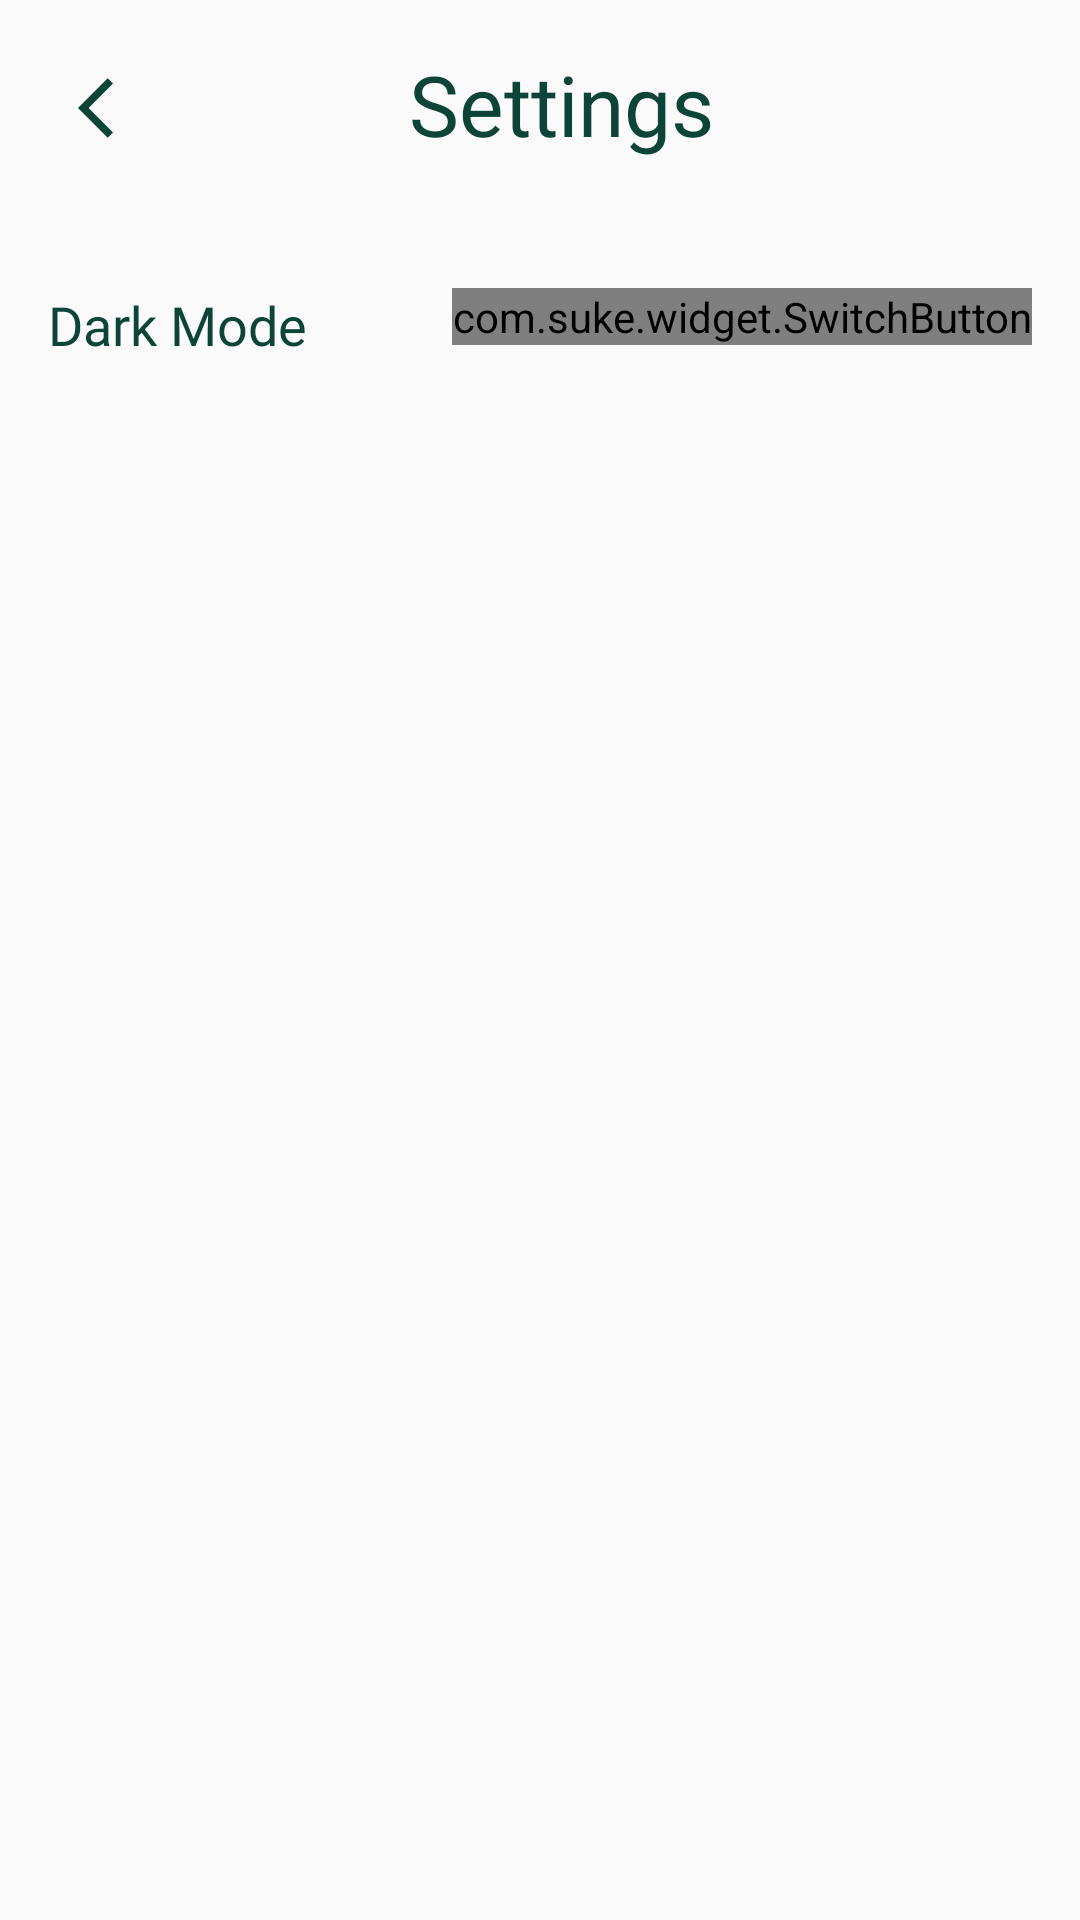

Point at icon controls on the screen. Image size 1080w x 1920h, points as (x,y).
back: (95,108)
